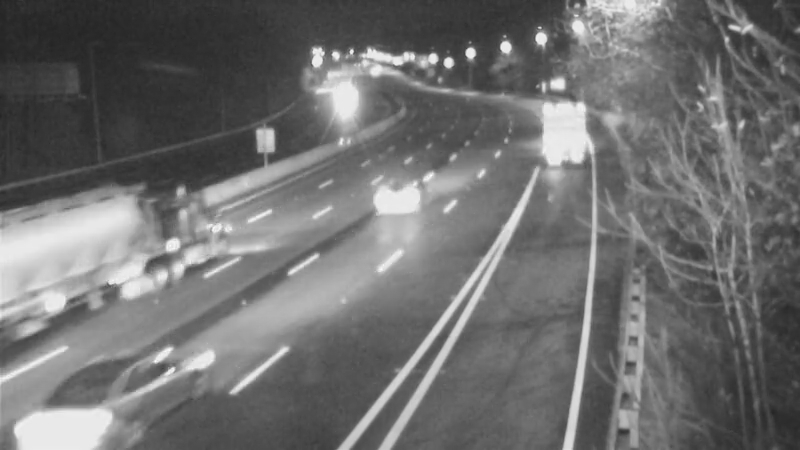vehicle: (58, 344, 168, 450), (359, 157, 439, 237), (76, 198, 156, 278), (532, 95, 582, 145), (317, 83, 367, 133)
